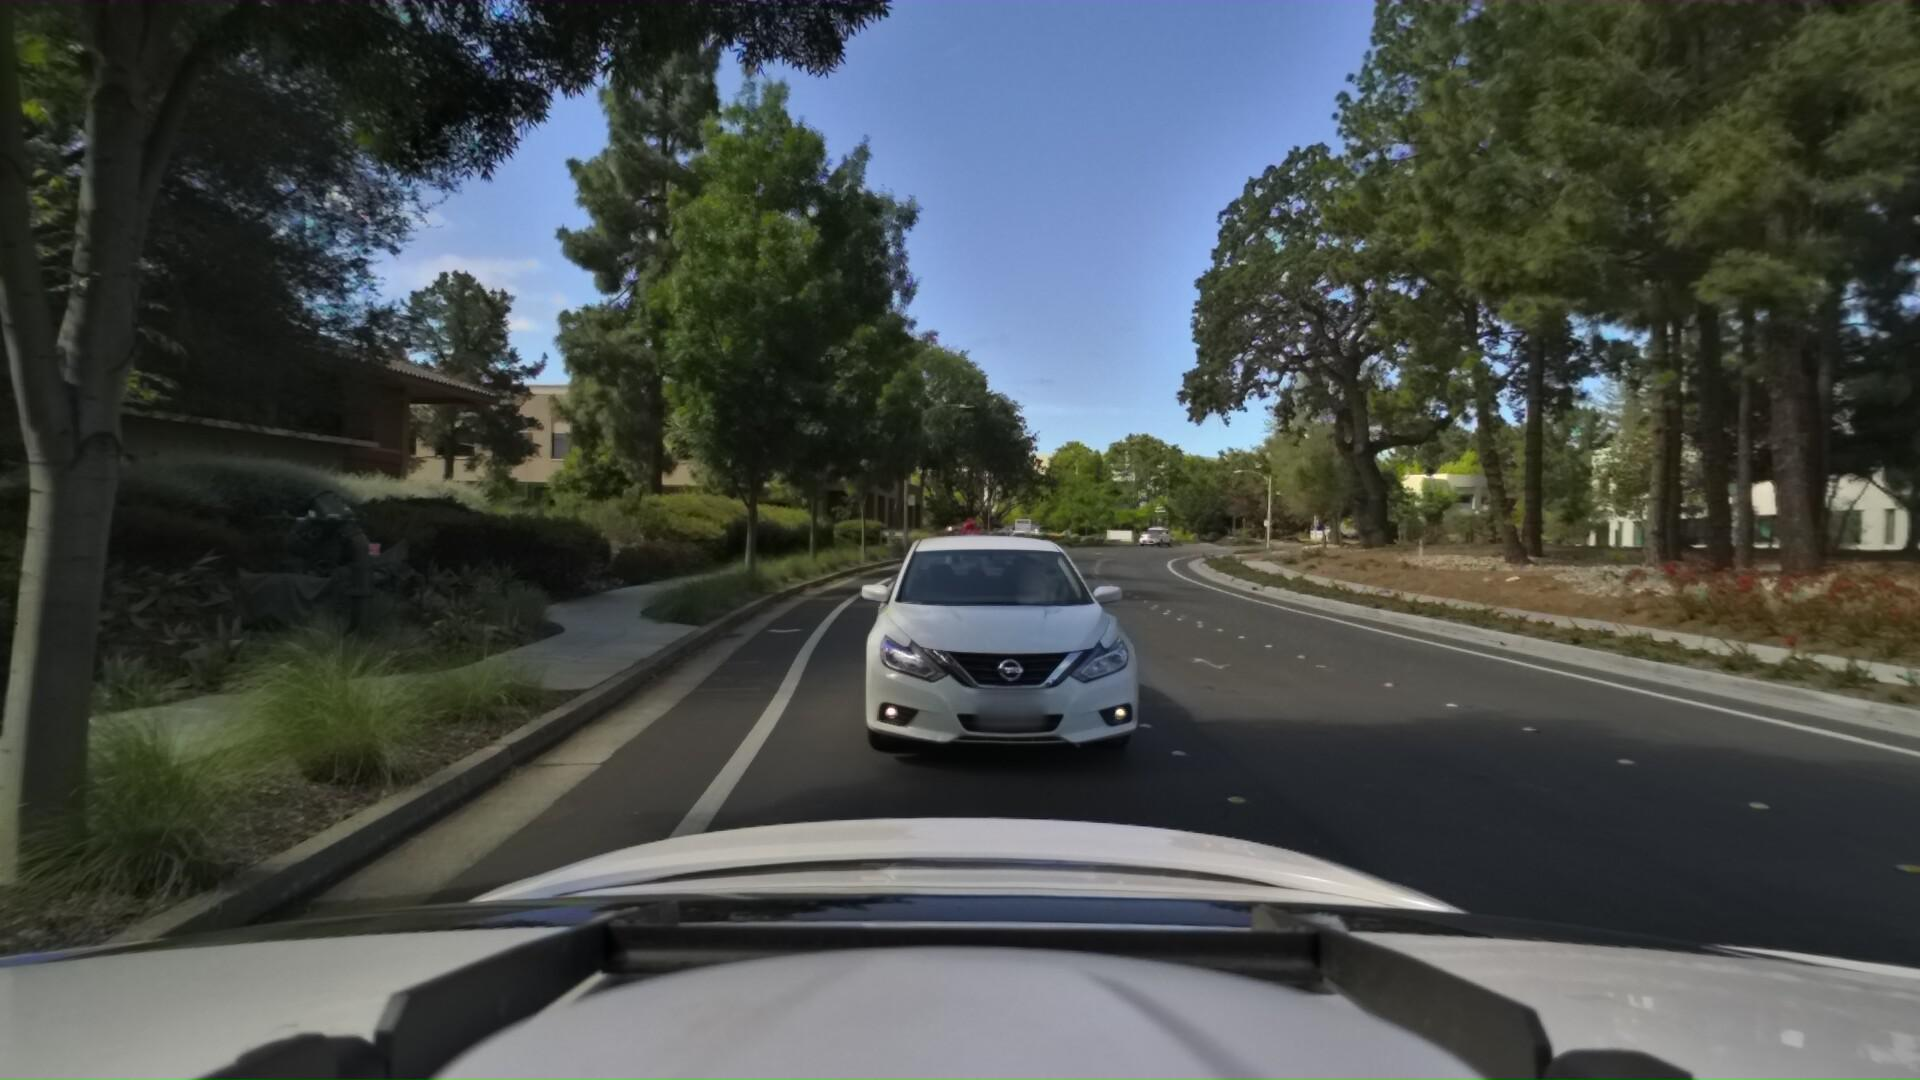car: (847, 492, 1178, 781), (1135, 521, 1174, 545)
